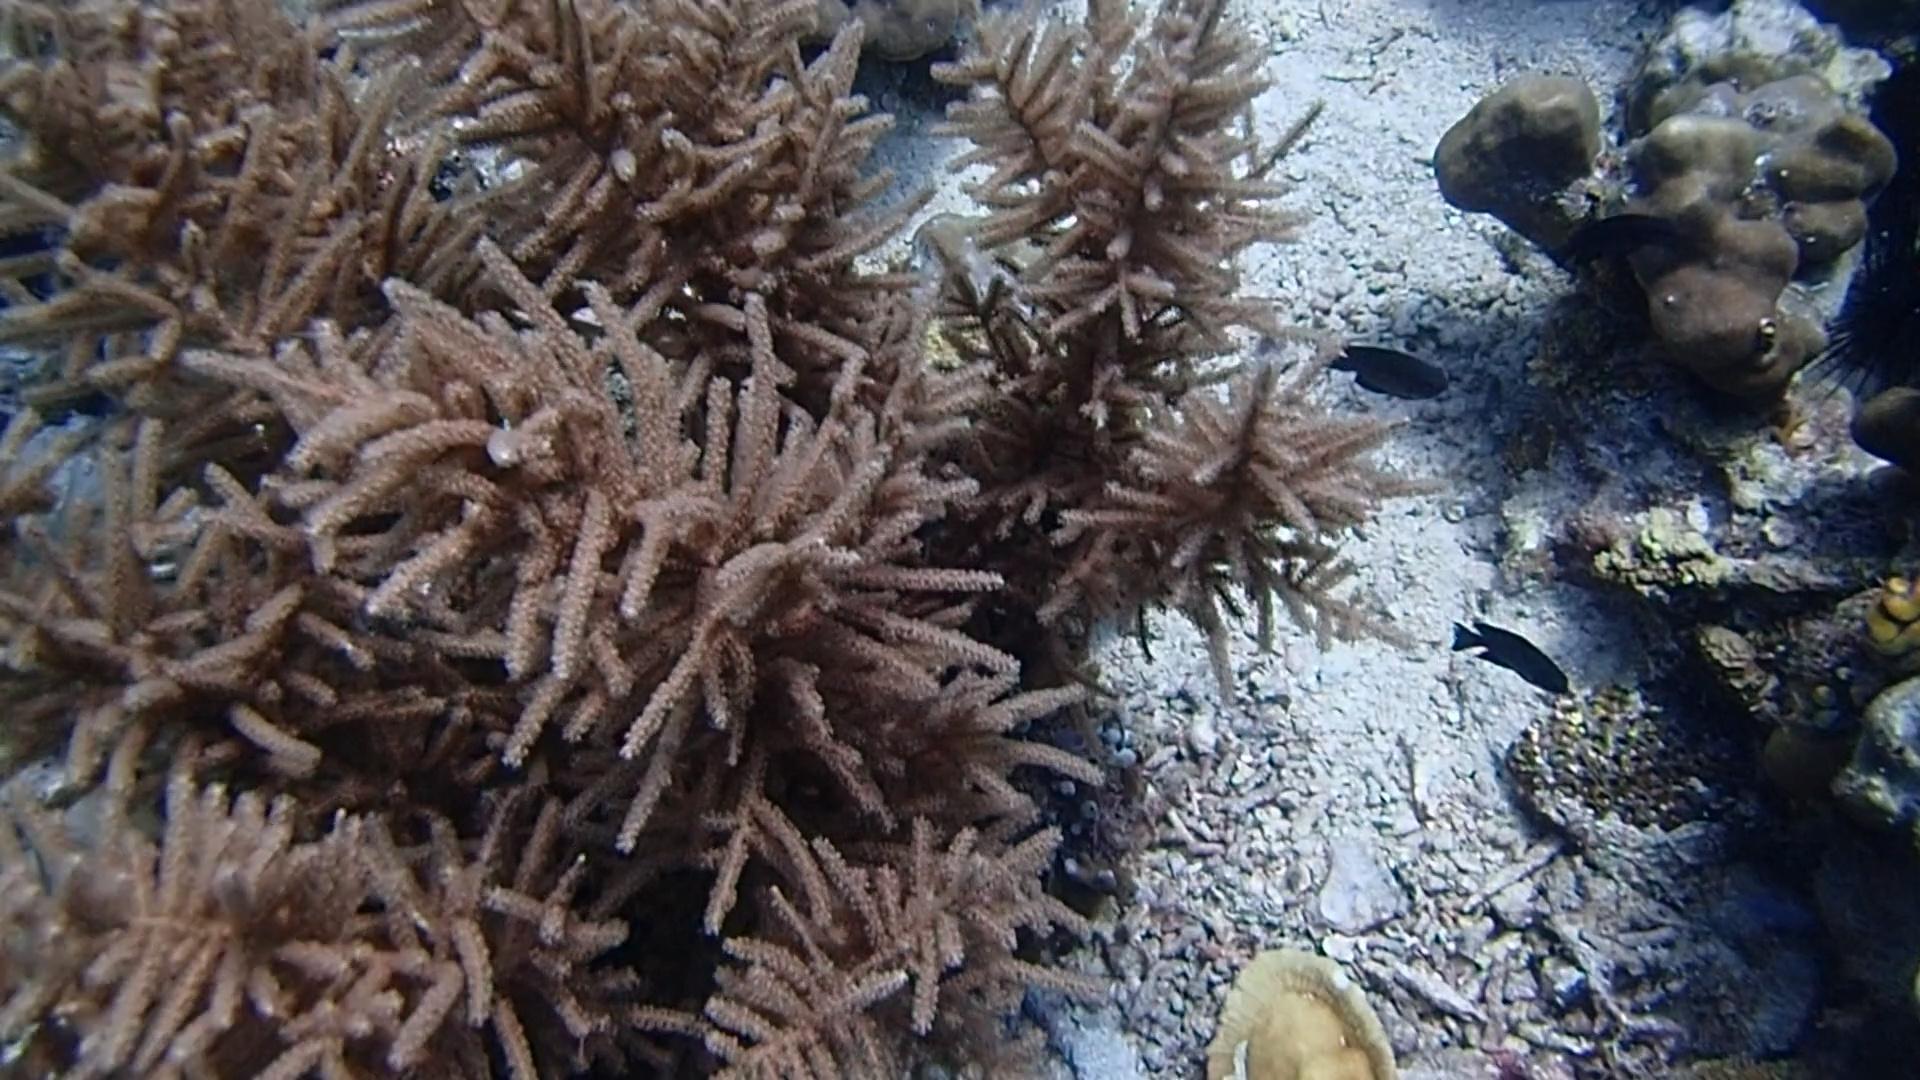Dark Fish: (1444, 612, 1573, 699), (1329, 326, 1456, 411), (1556, 204, 1683, 268)
